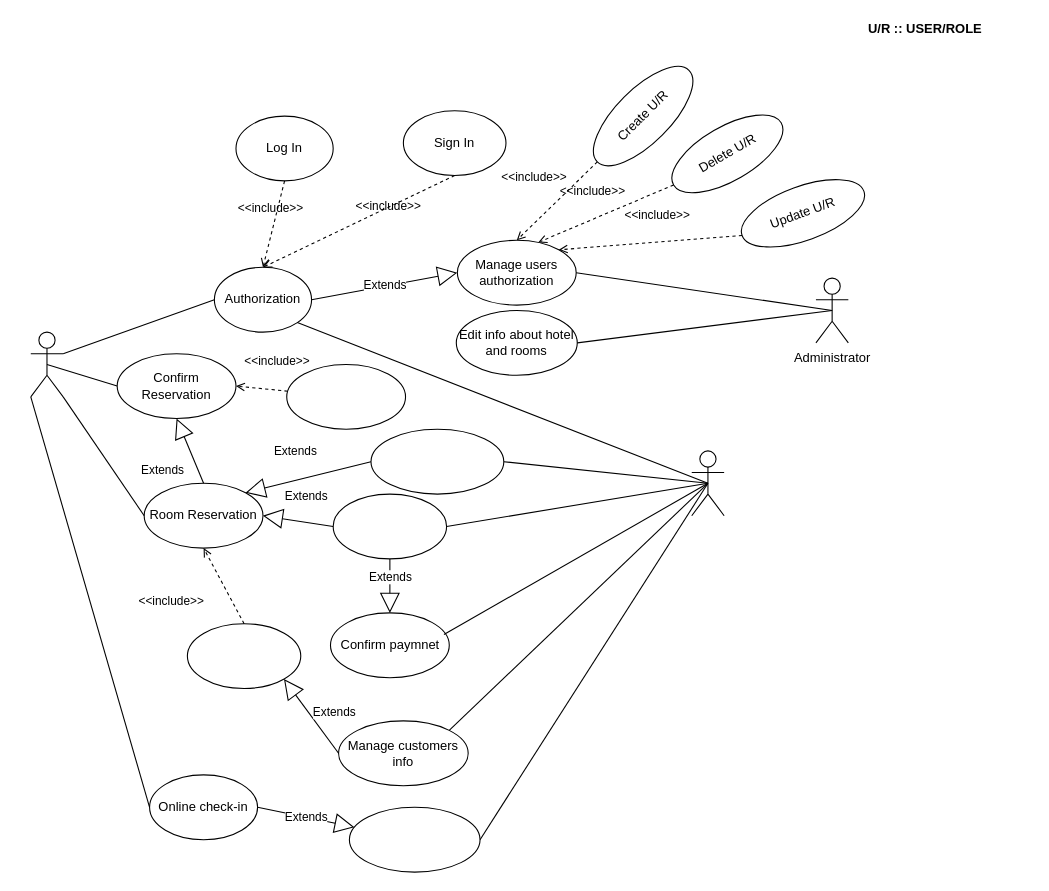
The diagram is 1049 pixels wide and 891 high, and some of its shapes have lost their labels. Each missing label, with the centre of its shape:
Change reservation: the point at 437,461
Check payment: the point at 389,526
Confirm check-in: the point at 414,839
Customer: the point at 46,364
Insert customer info: the point at 243,655
Make payment: the point at 346,396
Stuff: the point at 707,483
